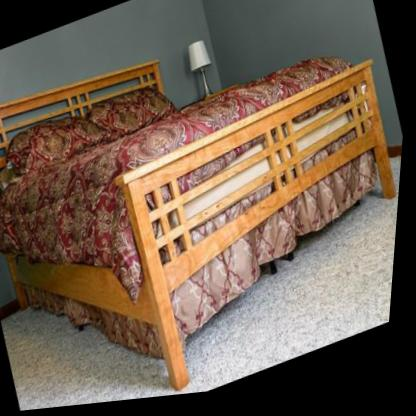Bed: (0, 0, 416, 416)
Lamp: (182, 39, 225, 109)
